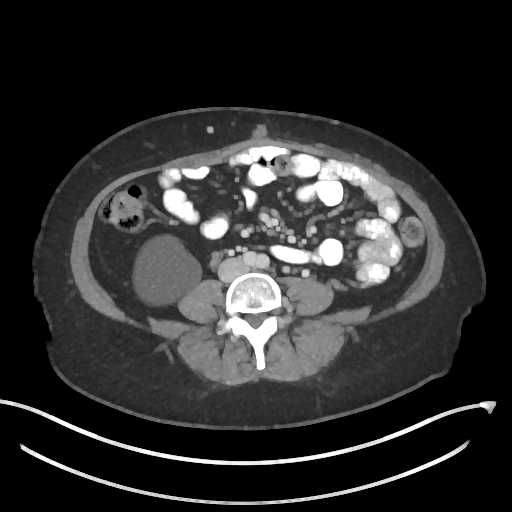Lesion: (130, 233, 204, 306)
